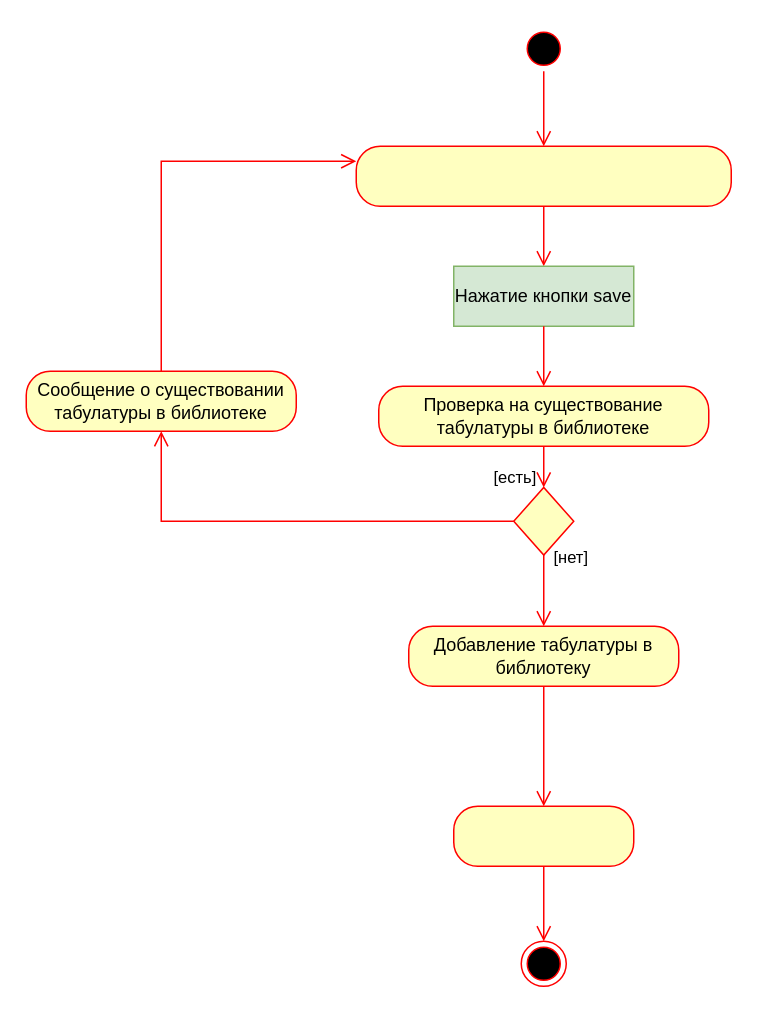
Image size: 758x1013. Some labels were removed from this diagram. The shapes that lost their labels are listed below. From the top down, each one's centre as x and y in pixels, then its label:
(543,175): Отображение окна просмотра информации о найденной табулатуре
(543,835): Добавление информации о табулатуре
